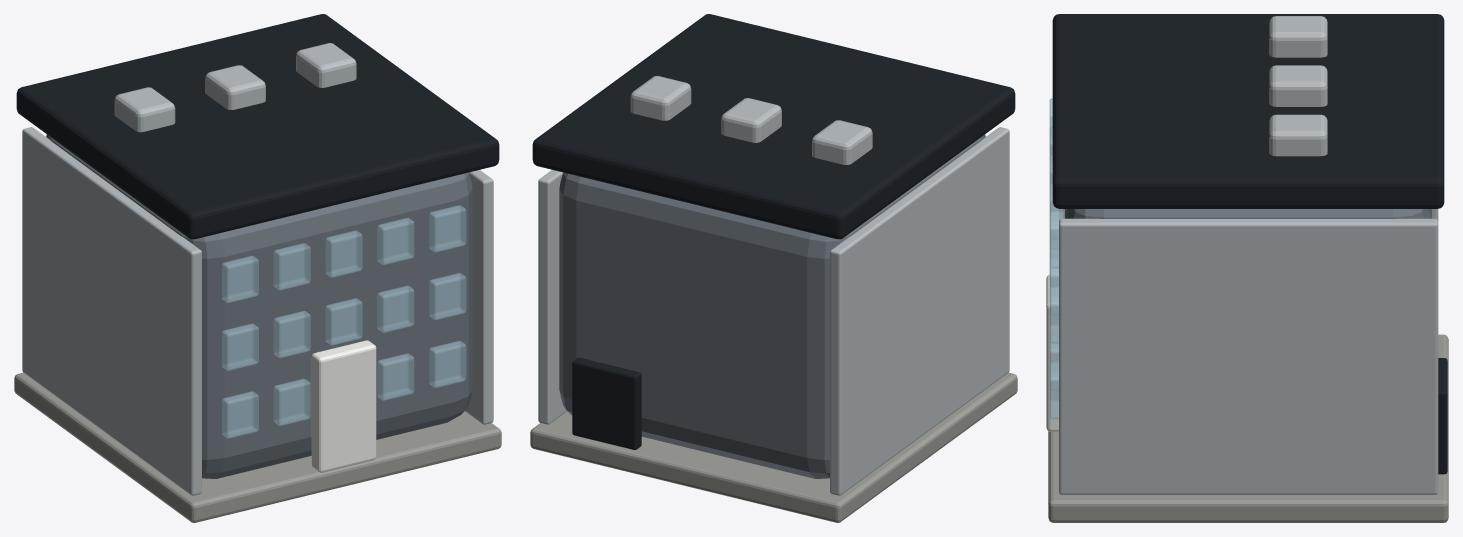
File: arch_dungeon_room_stone_large_a_v01.glb
3 renders of one model, left to right at view 1: azimuth 30°, elevation 25°; view 2: azimuth 150°, elevation 25°; view 3: azimuth 270°, elevation 25°, orthographic. The views are drawn at different scales.
Parts seen in each view (by area): view 1: component__primary_massing__primary_massing, component__roof_line__roof_line, component__facade_material_breaks__facade_break.001, component__foundation__foundation, component__entrance__entrance, component__facade_material_breaks__facade_break, component__roof_line__rooftop_service.001, component__roof_line__rooftop_service.002, component__roof_line__rooftop_service, component__window_system__window.009, component__window_system__window.012, component__window_system__window.008 (+11 smaller); view 2: component__primary_massing__primary_massing, component__roof_line__roof_line, component__facade_material_breaks__facade_break.001, component__foundation__foundation, component__facade_material_breaks__facade_break, component__service_side__service_side, component__roof_line__rooftop_service, component__roof_line__rooftop_service.001, component__roof_line__rooftop_service.002; view 3: component__facade_material_breaks__facade_break, component__roof_line__roof_line, component__foundation__foundation, component__primary_massing__primary_massing, component__roof_line__rooftop_service, component__roof_line__rooftop_service.002, component__roof_line__rooftop_service.001, component__entrance__entrance, component__service_side__service_side, component__window_system__window, component__window_system__window.005, component__window_system__window.010 (+2 smaller).
Boxes of the visible parts, <box> form: component__primary_massing__primary_massing: <box>46,134,472,478</box>; component__roof_line__roof_line: <box>16,14,499,239</box>; component__facade_material_breaks__facade_break.001: <box>22,127,201,495</box>; component__foundation__foundation: <box>14,372,501,522</box>; component__entrance__entrance: <box>311,340,376,472</box>; component__facade_material_breaks__facade_break: <box>465,170,493,424</box>; component__roof_line__rooftop_service.001: <box>114,87,175,132</box>; component__roof_line__rooftop_service.002: <box>205,65,265,109</box>; component__roof_line__rooftop_service: <box>296,43,356,87</box>; component__window_system__window.009: <box>377,285,414,332</box>; component__window_system__window.012: <box>273,243,310,290</box>; component__window_system__window.008: <box>325,298,362,345</box>; component__primary_massing__primary_massing: <box>559,134,985,478</box>; component__roof_line__roof_line: <box>532,14,1015,239</box>; component__facade_material_breaks__facade_break.001: <box>830,127,1009,495</box>; component__foundation__foundation: <box>530,372,1017,522</box>; component__facade_material_breaks__facade_break: <box>538,170,566,424</box>; component__service_side__service_side: <box>572,357,641,449</box>; component__roof_line__rooftop_service: <box>630,76,691,120</box>; component__roof_line__rooftop_service.001: <box>812,120,872,164</box>; component__roof_line__rooftop_service.002: <box>721,98,781,142</box>; component__facade_material_breaks__facade_break: <box>1059,218,1438,494</box>; component__roof_line__roof_line: <box>1052,14,1444,208</box>; component__foundation__foundation: <box>1048,334,1448,522</box>; component__primary_massing__primary_massing: <box>1065,209,1431,218</box>; component__roof_line__rooftop_service: <box>1269,114,1327,156</box>; component__roof_line__rooftop_service.002: <box>1269,65,1327,106</box>; component__roof_line__rooftop_service.001: <box>1269,16,1327,57</box>; component__entrance__entrance: <box>1046,275,1058,431</box>; component__service_side__service_side: <box>1438,358,1447,474</box>; component__window_system__window: <box>1049,211,1063,268</box>; component__window_system__window.005: <box>1049,362,1058,419</box>; component__window_system__window.010: <box>1049,286,1058,343</box>.
Size of the model in its own units: 1.44 by 1.45 by 1.45.
